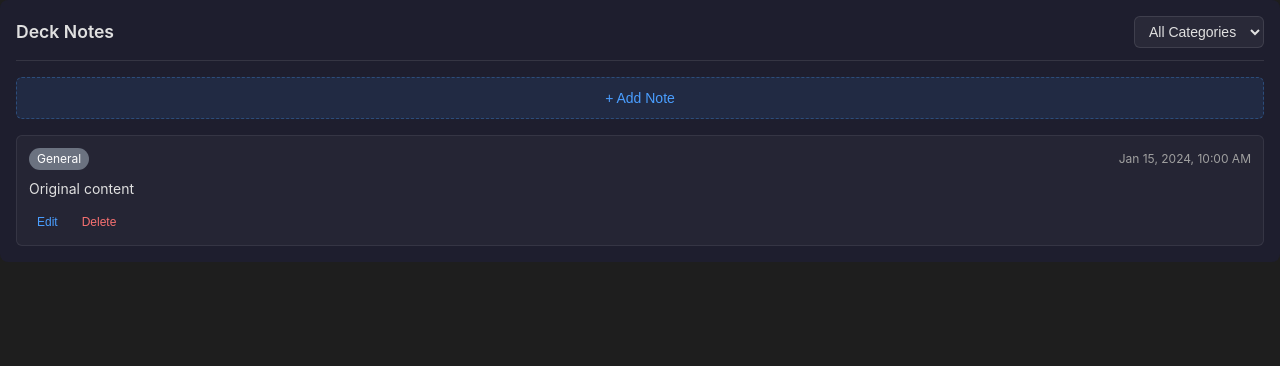
Test: DeckNotesPanel › Edit Note › should show edit form when edit button clicked
Check: the text "Original content" is shown, box [29,180,134,197]
Click the button titled "Edit note".
click(47, 222)  # box [29,211,66,233]
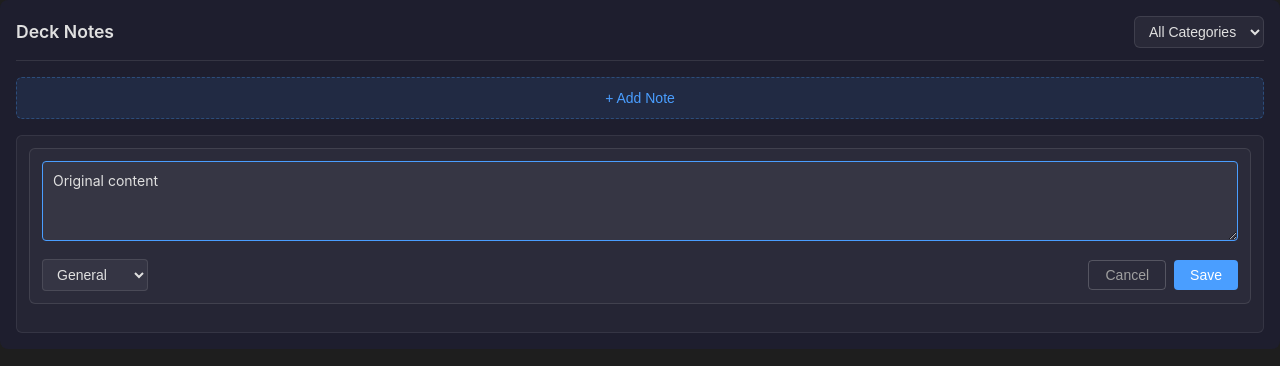
Check: the text box showing "Original content" is shown, box [42,161,1238,241]
